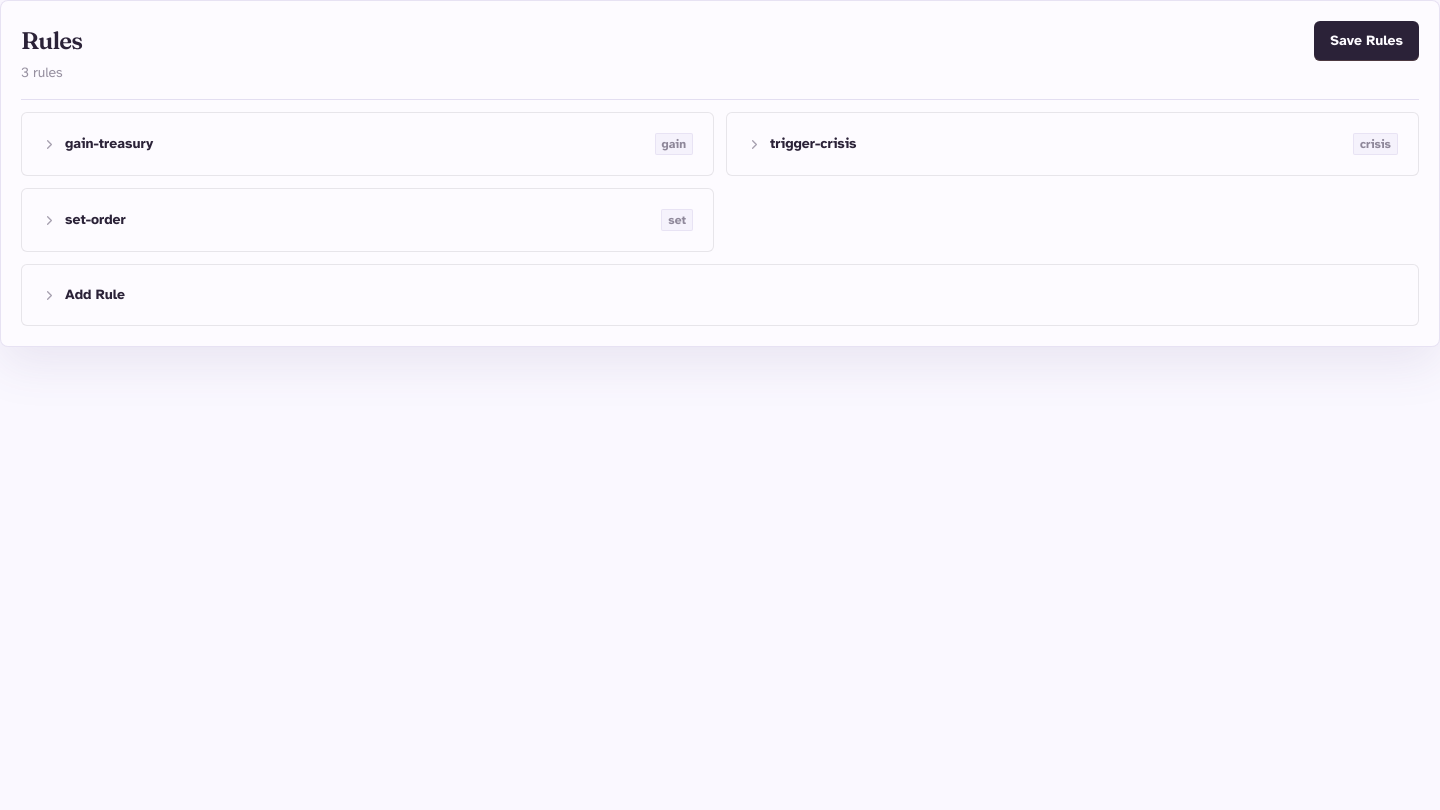
Test: RulesView › expanding a rule card reveals human-readable condition and effect labels
// Expand gain-treasury card (first button with that name)
Step 1. Click the button "gain-treasury gain" → (109, 144), box [38,129,697,159]
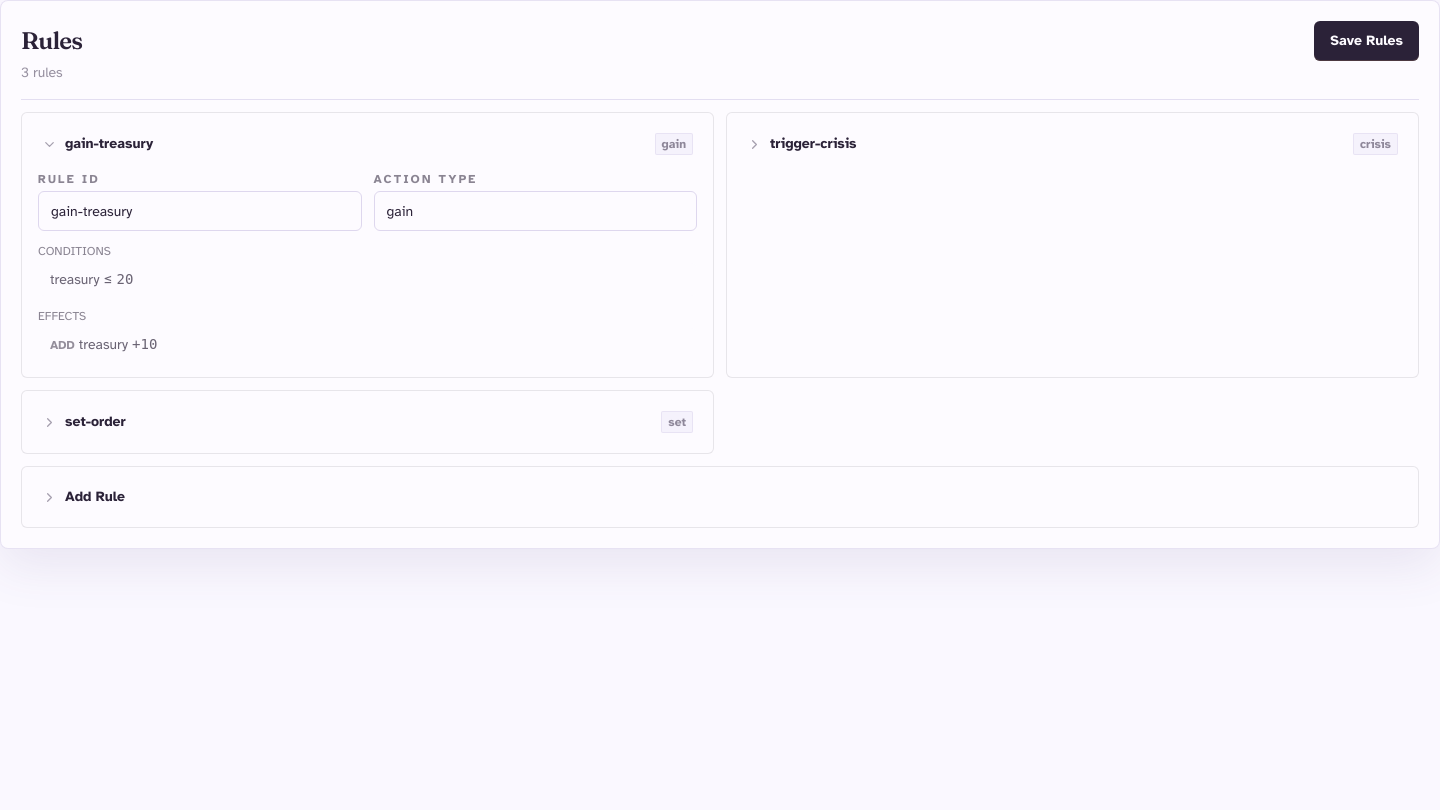
Expected: the text "+10" is shown, [132,336,157,352]
